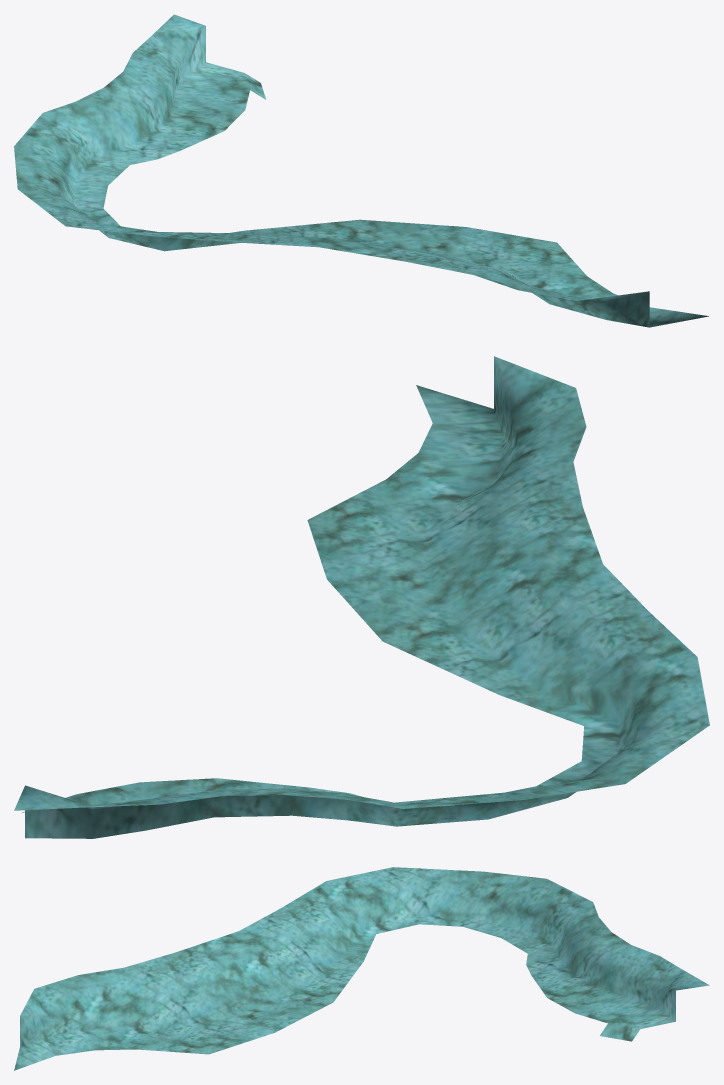
Rendered from EKH_CAVERNS_PS_CA_LAKE_BANK_TRIN453.fbx.
The picture shows the model from 3 angles, top to bottom: view 1: azimuth 30°, elevation 25°; view 2: azimuth 150°, elevation 25°; view 3: azimuth 270°, elevation 25°; orthographic projection. The views are drawn at different scales.
Visible parts, largest first — view 1: EKH_CAVERNS_PS_CA_LAKE_BANK_TRIN453; view 2: EKH_CAVERNS_PS_CA_LAKE_BANK_TRIN453; view 3: EKH_CAVERNS_PS_CA_LAKE_BANK_TRIN453.
Part boxes in pixels (box(x1,y1,x2,y2)): EKH_CAVERNS_PS_CA_LAKE_BANK_TRIN453: box(14, 14, 708, 327); EKH_CAVERNS_PS_CA_LAKE_BANK_TRIN453: box(14, 356, 709, 838); EKH_CAVERNS_PS_CA_LAKE_BANK_TRIN453: box(14, 867, 709, 1070).
Bounding box in the file's own units: 121988 × 13018 × 202773.
1 material, 1 textured.
